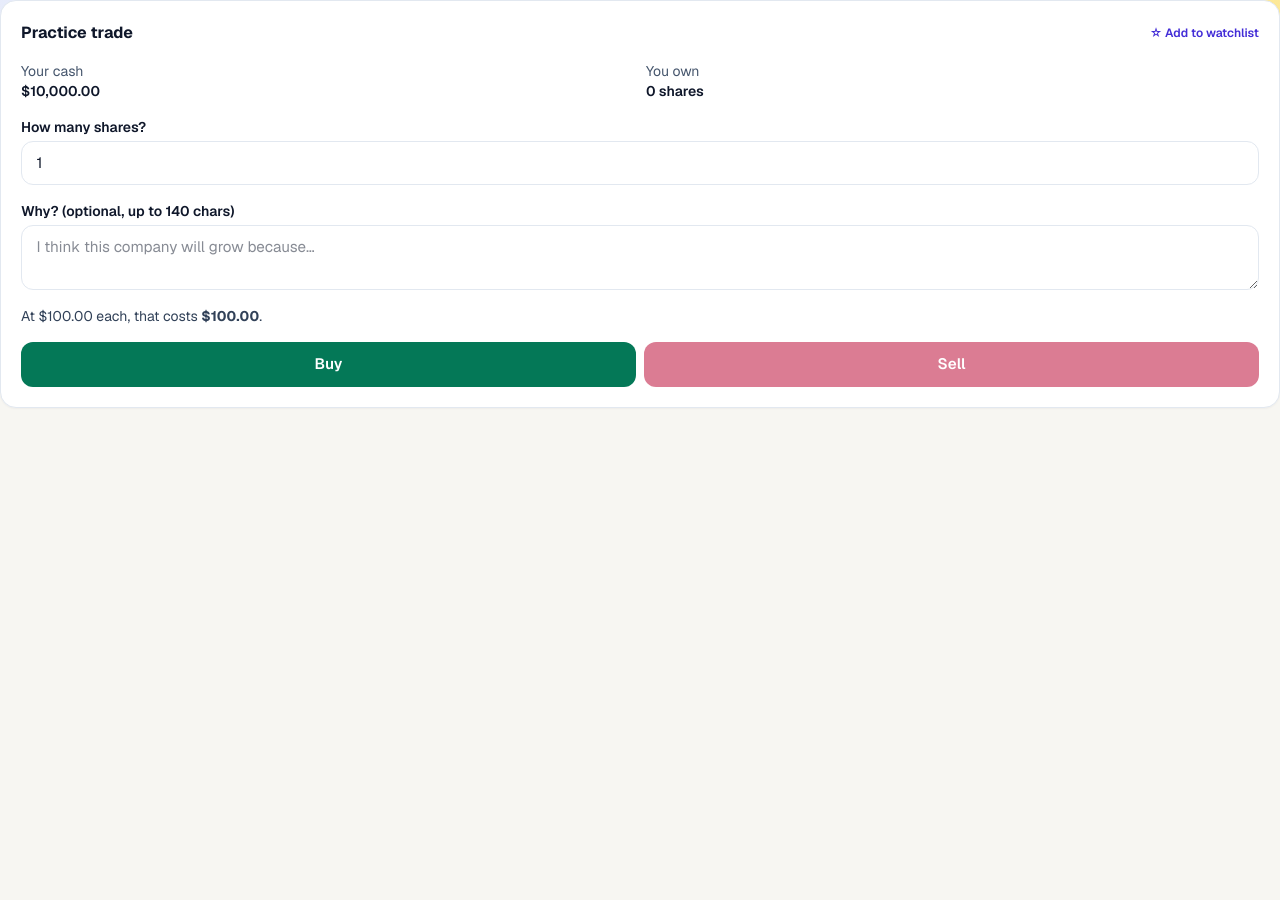
Test: TradePanel: re-pricing at confirm time › fills at the fresh price when it barely moved
Replace the text in the number field labelled "How many shares?" with "10": (640, 163) [21,141,1259,185]
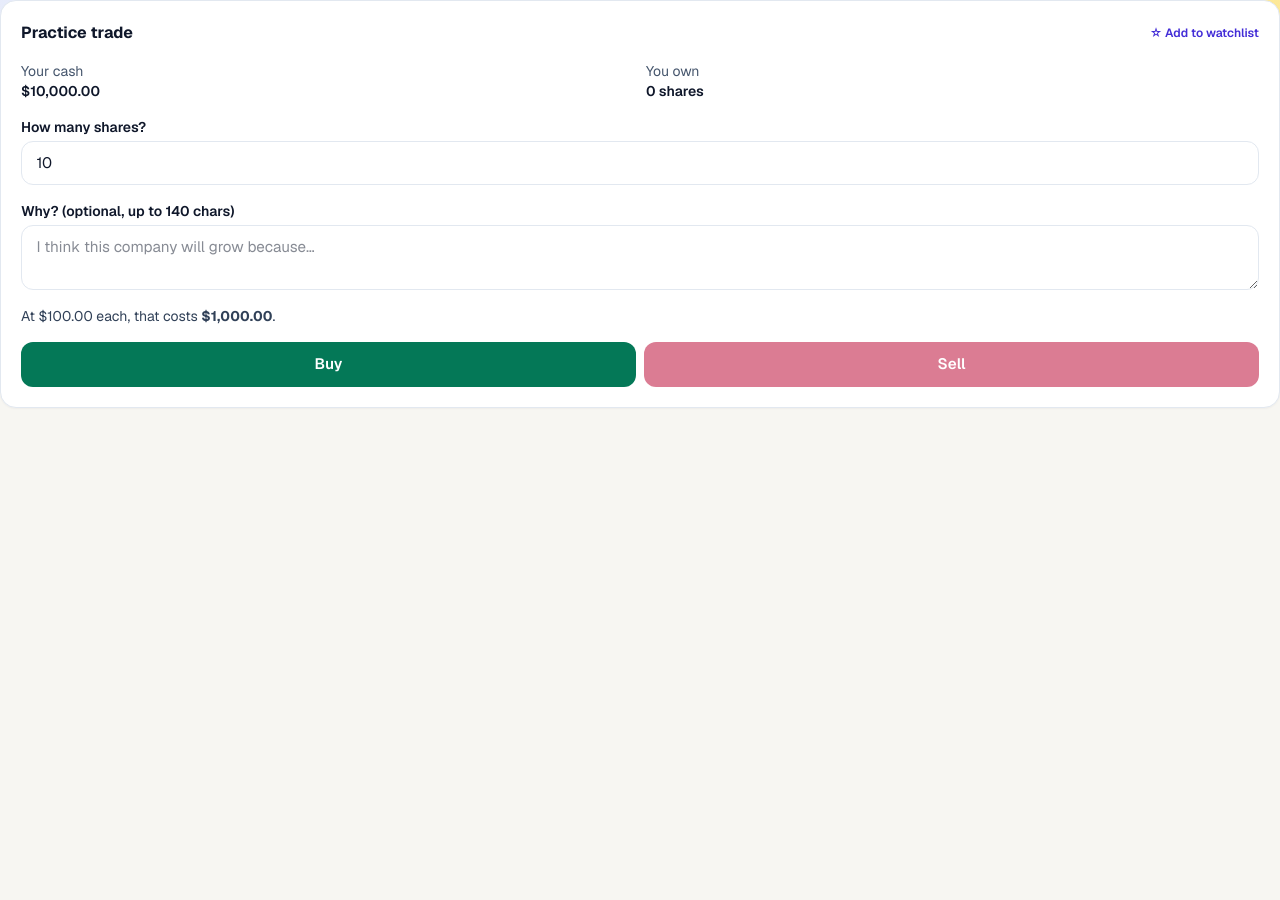
Click the button "Buy": (328, 364) [21,342,636,387]
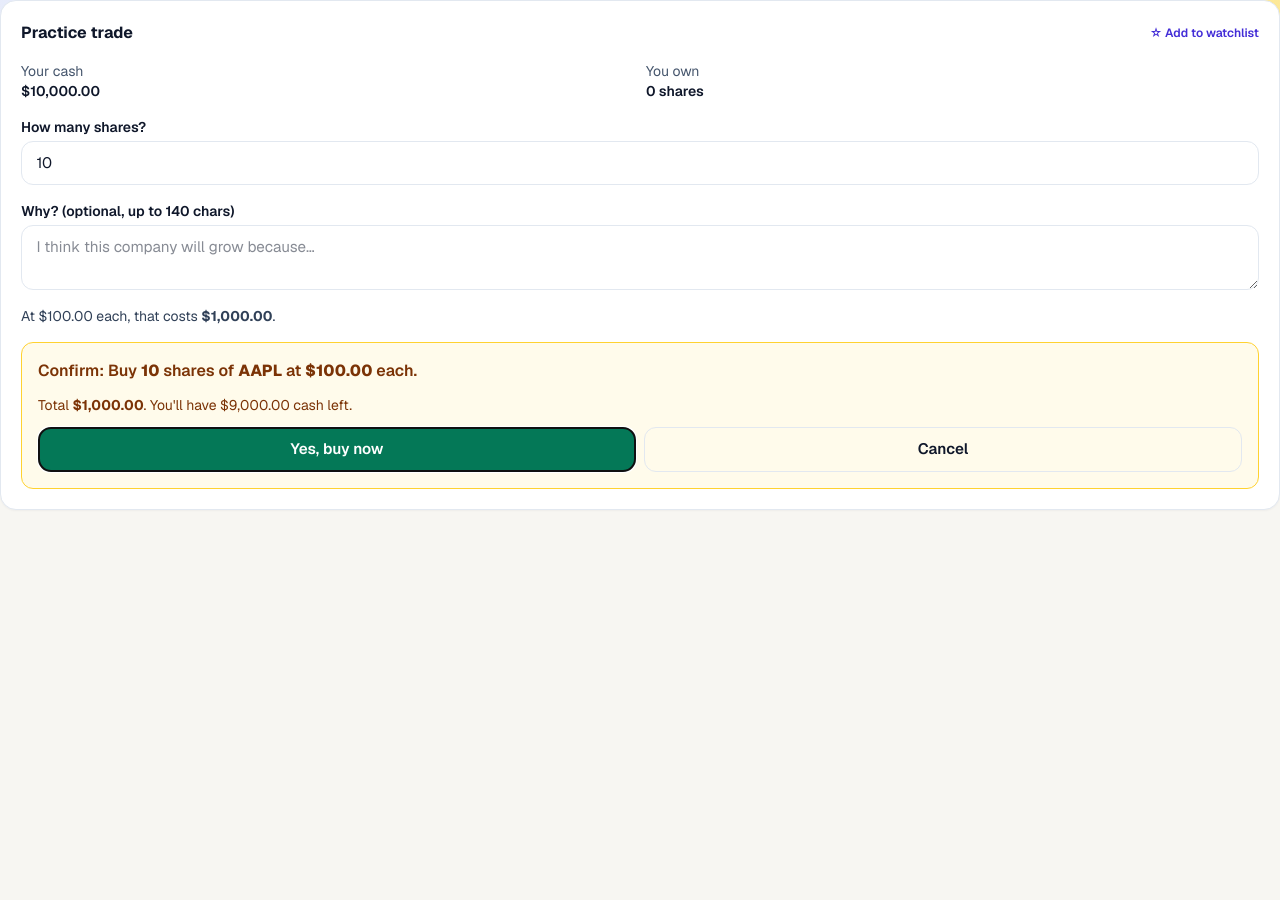
Click the button "Yes, buy now": (337, 450) [38,427,636,472]
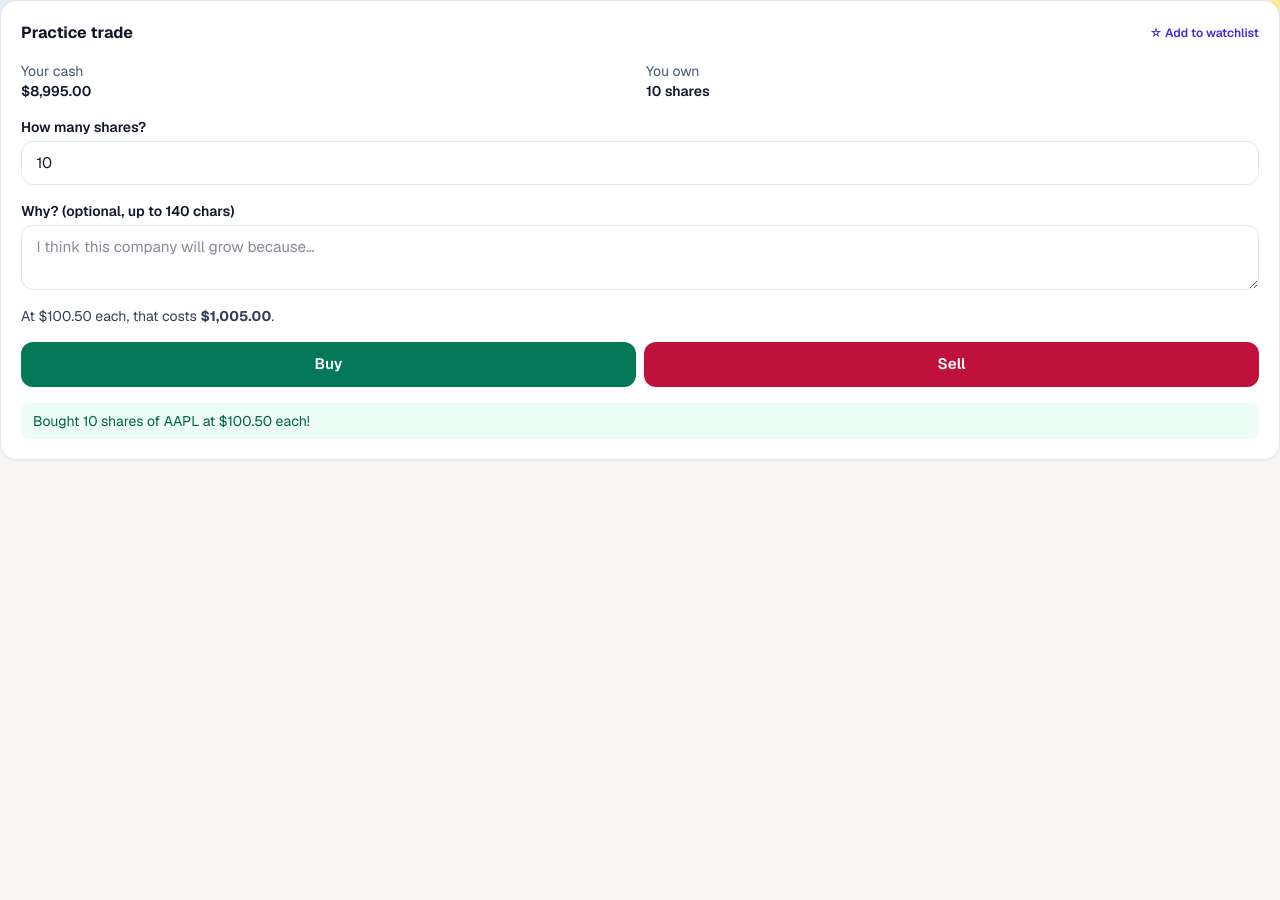
Expected: the text "Bought 10 shares of AAPL at $100.50 each!" is shown, [21,403,1259,439]
